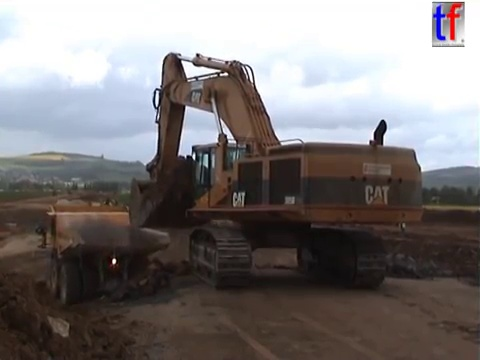excavator: (125, 48, 427, 292), (96, 196, 123, 214)
truck: (34, 200, 173, 305), (183, 186, 276, 251), (64, 187, 73, 197), (50, 188, 58, 198)
worker: (395, 211, 411, 238)
